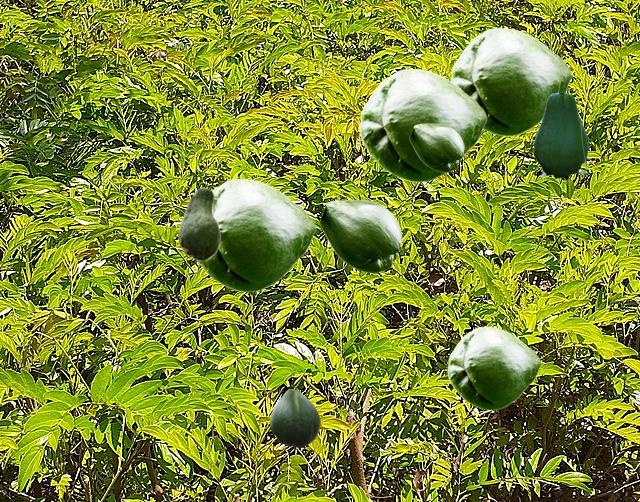sayote: (359, 68, 486, 181), (196, 178, 315, 291), (450, 27, 571, 135), (447, 326, 540, 409), (319, 199, 401, 272), (533, 93, 589, 181), (178, 187, 219, 260), (270, 389, 319, 447), (409, 123, 463, 171)
